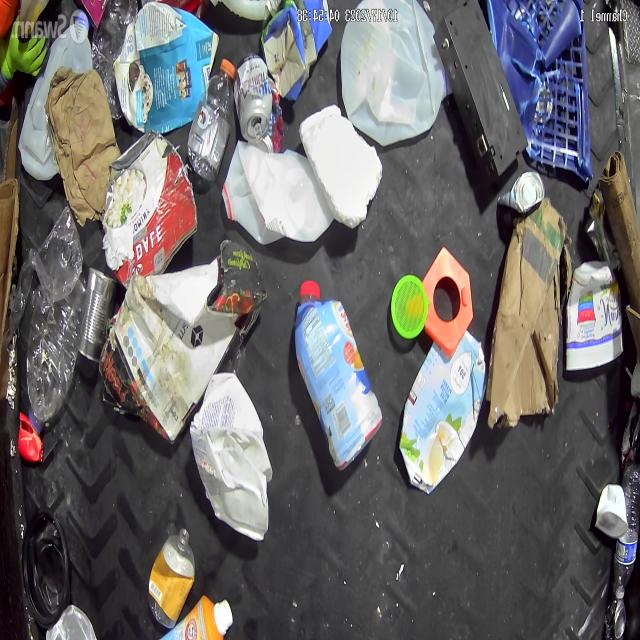can: (104, 131, 198, 290), (235, 55, 282, 152), (75, 268, 116, 364), (494, 167, 542, 218), (604, 598, 625, 640)
milk_jug: (340, 2, 449, 147), (191, 373, 273, 541), (18, 12, 93, 182), (221, 138, 332, 248), (205, 1, 280, 24)
non_white_jug: (398, 330, 487, 494), (114, 3, 216, 134)
plastic_bottle: (22, 296, 81, 430), (188, 58, 236, 181), (614, 465, 640, 597)
